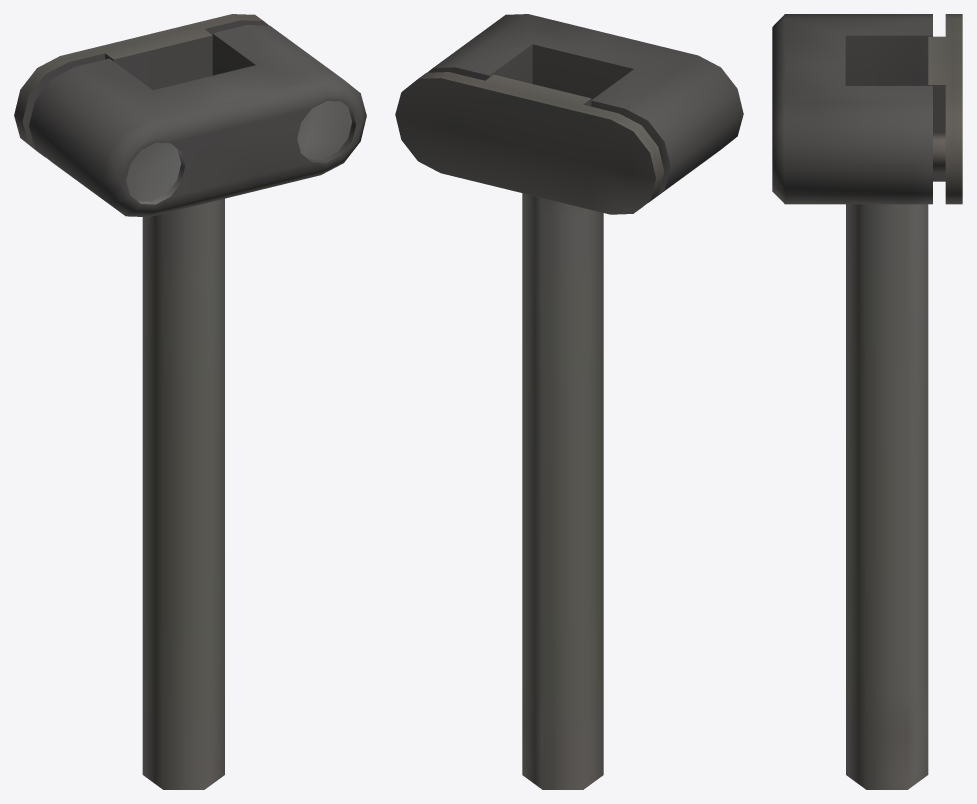
Rendered from wall-cable--3.gltf.
3 views of the same model, side by side, from view 1: azimuth 30°, elevation 25°; view 2: azimuth 150°, elevation 25°; view 3: azimuth 270°, elevation 25° (orthographic).
Visible parts, largest first — view 1: cable_straight_short; view 2: cable_straight_short; view 3: cable_straight_short.
Part boxes in pixels (x1=…): cable_straight_short: x1=14, y1=14, x2=366, y2=789; cable_straight_short: x1=395, y1=14, x2=743, y2=789; cable_straight_short: x1=772, y1=14, x2=962, y2=789.
Bounding box in the file's own units: 0.0416 × 0.1073 × 0.0259.
1 material, 1 textured.
